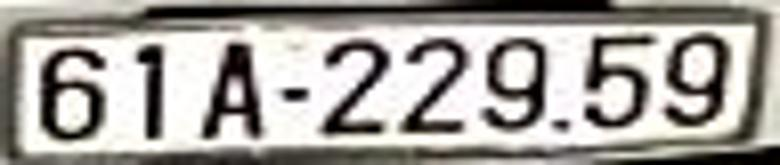-: (281, 87, 312, 107)
.: (551, 120, 569, 129)
1: (135, 39, 165, 145)
2: (404, 39, 466, 134), (324, 40, 386, 133)
5: (589, 32, 648, 130)
6: (36, 45, 105, 143)
9: (483, 36, 544, 131), (668, 31, 724, 129)
A: (199, 42, 265, 139)
